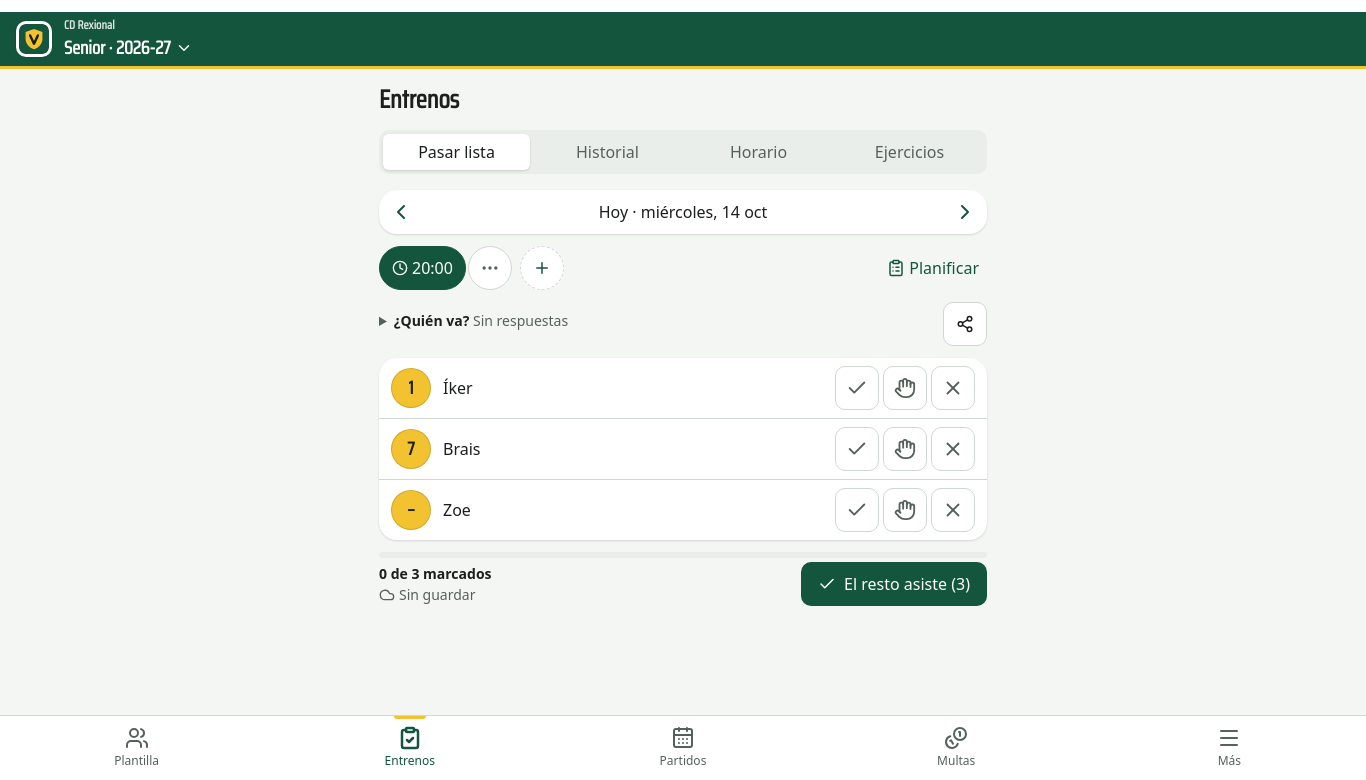
Test case: pasar lista › el resto asiste, y con todos marcados la lista está completa (GH-259)
The width and height of the screenshot is (1366, 780).
Expected: the text "Íker" is shown, 443,377 -> 473,399
Step 1. Click the button named "Falta" in the row of "Brais" → (953, 449), box 931,427 -> 975,471
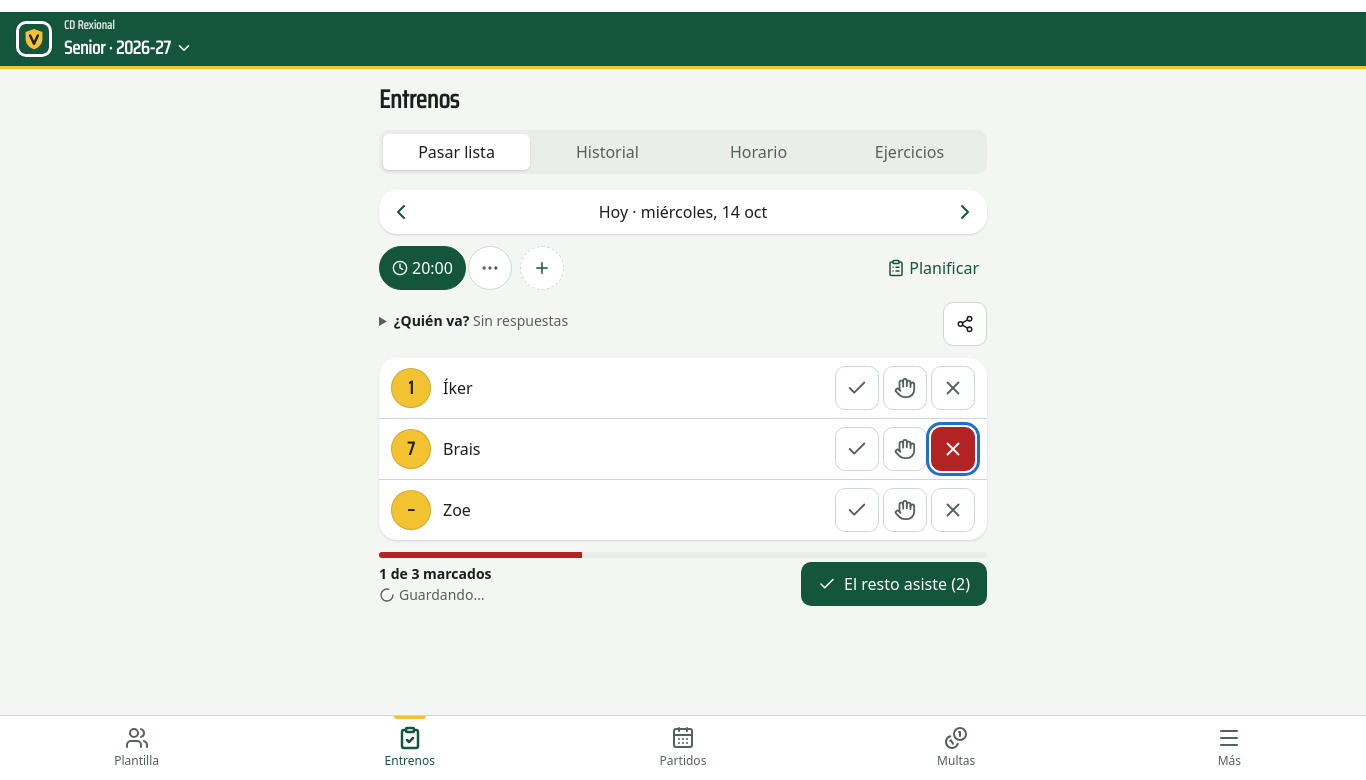
Step 2. Click the button "El resto asiste (2)" → (894, 584), box 801,562 -> 987,606
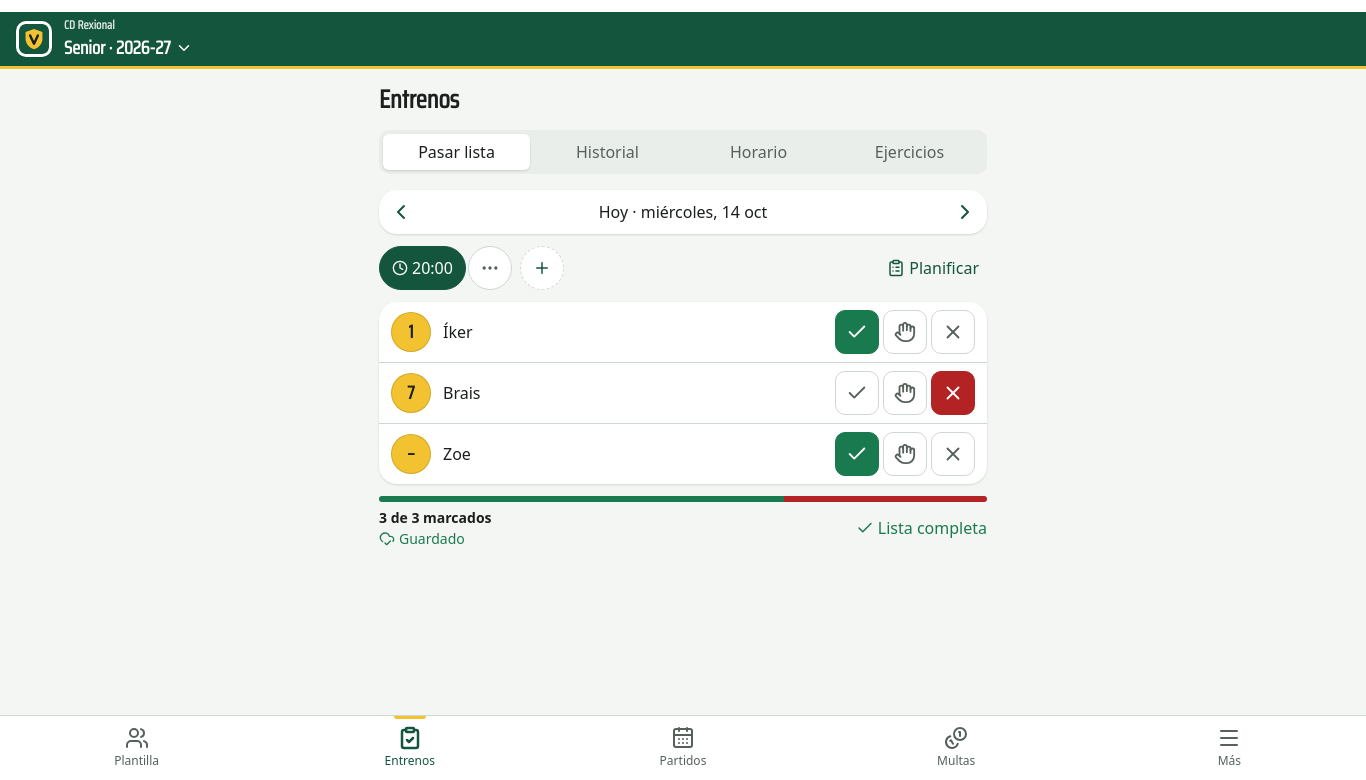
Expected: the button "El resto asiste" is gone
Expected: the text "Lista completa" is shown, 856,517 -> 987,539
Expected: the text "3 de 3 marcados" is shown, 379,508 -> 492,527
